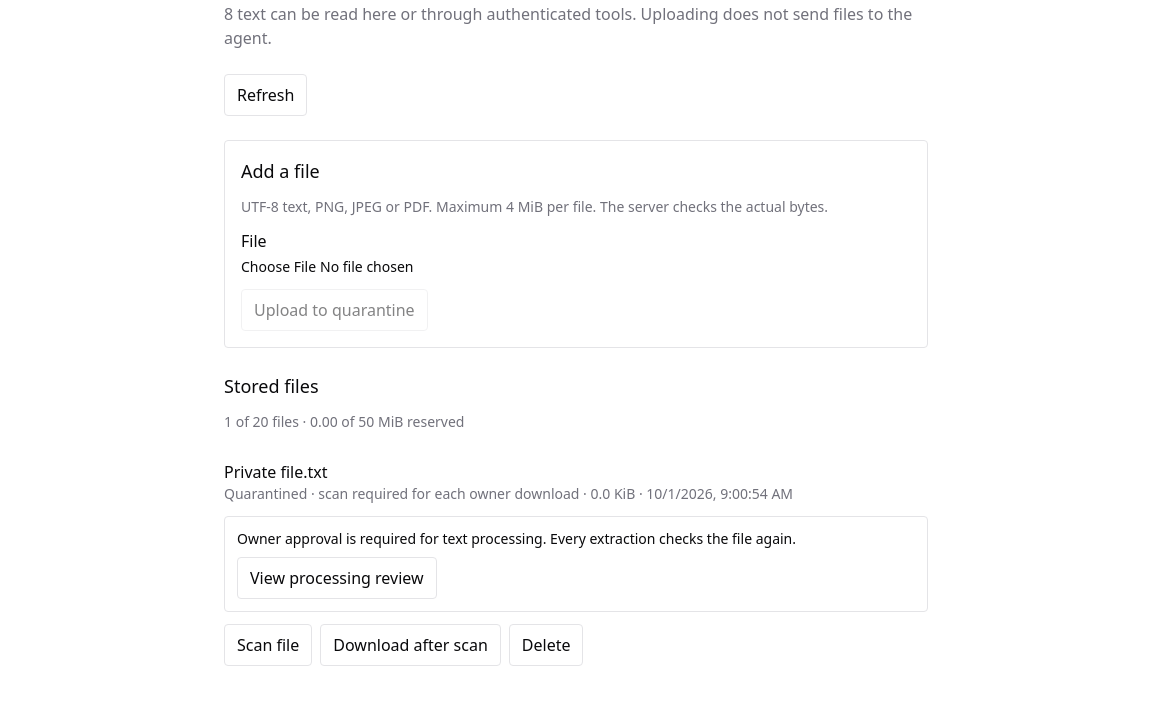
aborts link issuance and ignores the returned URL after an account change
(page scrolled)
Click the button "Download after scan": (411, 645) [320,624,501,666]
(page scrolled)
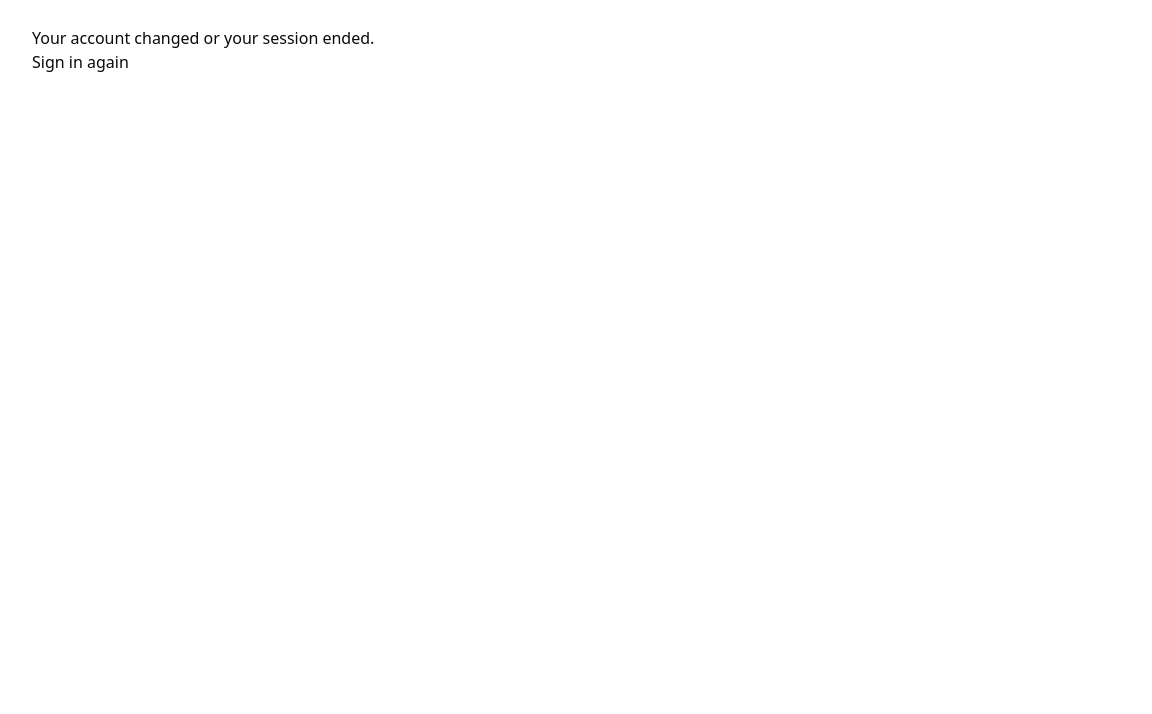
Check: the heading "Private file.txt" is gone
